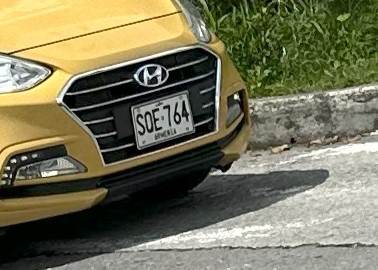number plate: (131, 91, 194, 149)
